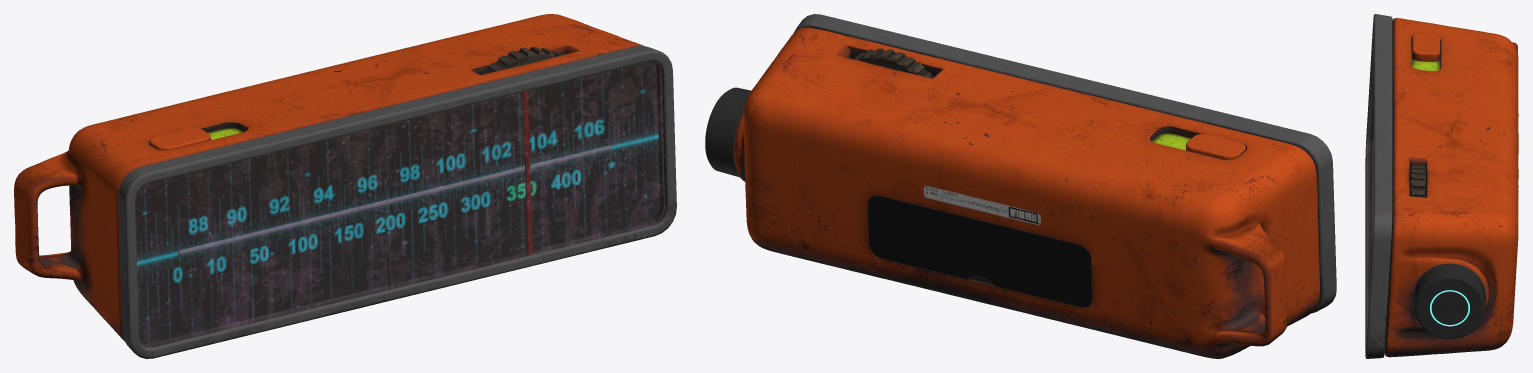
File: radio.glb
The picture shows the model from 3 angles, left to right: view 1: azimuth 30°, elevation 25°; view 2: azimuth 150°, elevation 25°; view 3: azimuth 270°, elevation 25°; orthographic projection. The views are drawn at different scales.
Visible parts, largest first — view 1: radio010_low, radio_low, radio005_low, radio003_low, radio007_low, radio009_low, radio001_low, radio004_low; view 2: radio005_low, radio006_low, radio003_low, radio002_low, radio001_low, radio004_low; view 3: radio005_low, radio003_low, radio002_low, radio010_low, radio004_low, radio001_low, radio008_low.
Boxes of the visible parts, x1=… form: radio010_low: x1=135, y1=61, x2=666, y2=347; radio_low: x1=135, y1=61, x2=660, y2=344; radio005_low: x1=14, y1=14, x2=642, y2=341; radio003_low: x1=118, y1=45, x2=676, y2=358; radio007_low: x1=178, y1=145, x2=611, y2=255; radio009_low: x1=522, y1=91, x2=532, y2=254; radio001_low: x1=481, y1=47, x2=559, y2=74; radio004_low: x1=149, y1=128, x2=210, y2=150; radio005_low: x1=734, y1=27, x2=1320, y2=358; radio006_low: x1=867, y1=195, x2=1092, y2=307; radio003_low: x1=794, y1=14, x2=1336, y2=313; radio002_low: x1=705, y1=87, x2=750, y2=177; radio001_low: x1=852, y1=48, x2=933, y2=78; radio004_low: x1=1186, y1=134, x2=1245, y2=159; radio005_low: x1=1384, y1=18, x2=1518, y2=357; radio003_low: x1=1365, y1=14, x2=1392, y2=358; radio002_low: x1=1414, y1=263, x2=1485, y2=338; radio010_low: x1=1367, y1=58, x2=1373, y2=321; radio004_low: x1=1412, y1=33, x2=1440, y2=61; radio001_low: x1=1409, y1=164, x2=1425, y2=197; radio008_low: x1=1411, y1=44, x2=1440, y2=70.
Size of what is drawn, in the model's own units: 1.18 by 0.351 by 0.3257.
2 materials, 2 textured.
